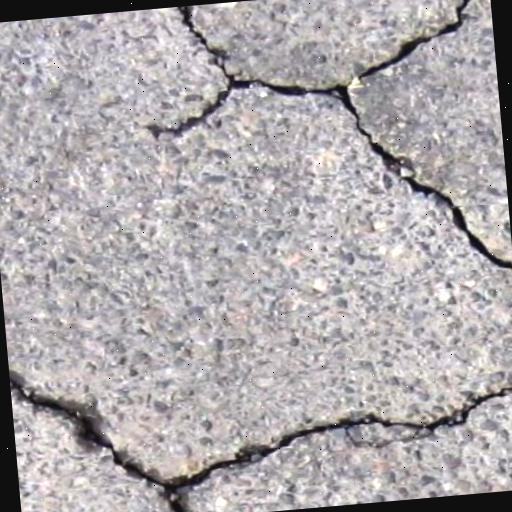spalling: (139, 0, 512, 276), (183, 378, 512, 490), (13, 368, 198, 512)
